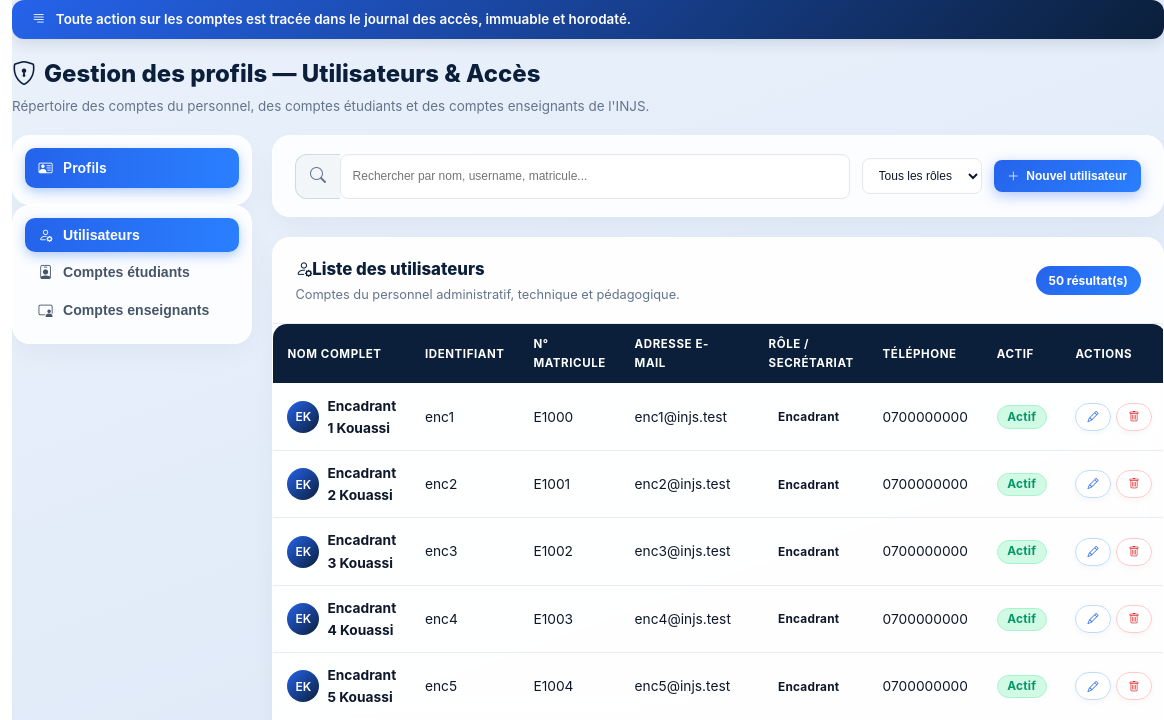
Scenario: pages/Users.jsx — liste serveur (recherche, filtres, onglets, pagination) › applique la recherche avec debounce et réémet la requête en page 1
Type "karim" into the field with placeholder "Rechercher par nom, username, matricule...".
click(595, 176); type("karim")  # box left=340, top=154, right=850, bottom=199
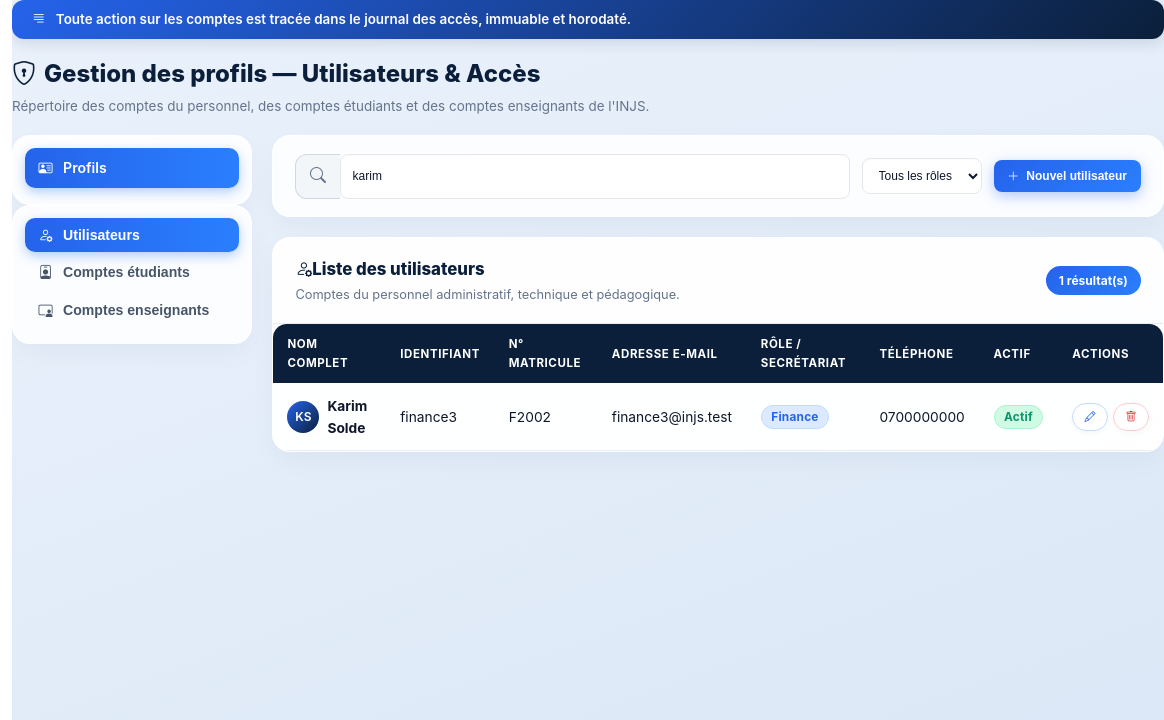
Expected: the text "Karim Solde" is shown, left=327, top=395, right=372, bottom=439
Expected: the text "1 résultat(s)" is shown, left=1046, top=266, right=1141, bottom=295
Expected: the text "Encadrant 1 Kouassi" is gone
